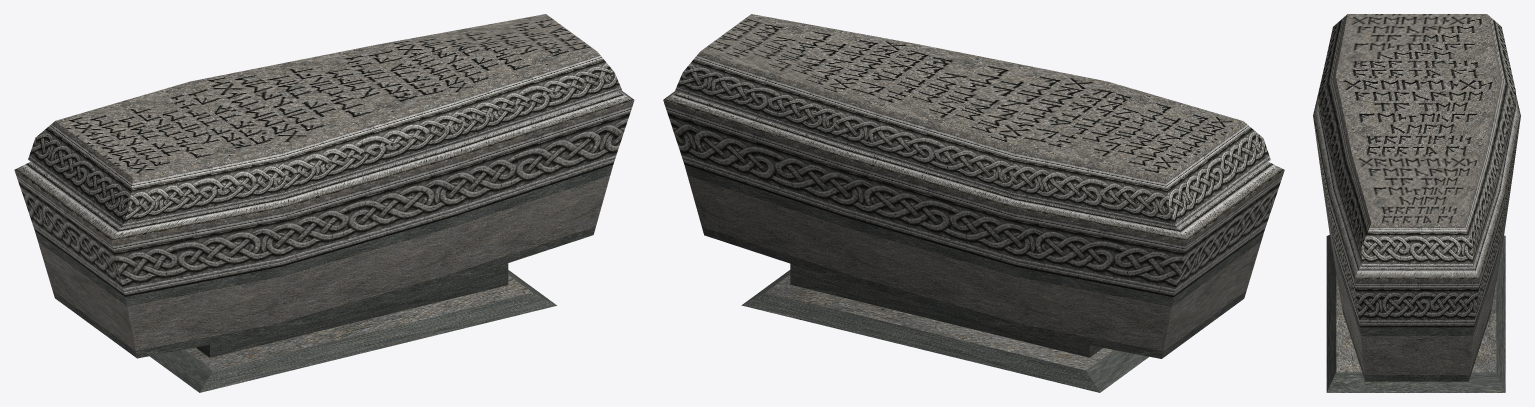
Rendered from mm9_deco_coffinraised.glb.
The picture shows the model from 3 angles, left to right: view 1: azimuth 30°, elevation 25°; view 2: azimuth 150°, elevation 25°; view 3: azimuth 270°, elevation 25°; orthographic projection. The views are drawn at different scales.
Parts seen in each view (by area): view 1: Coffinraised; view 2: Coffinraised; view 3: Coffinraised.
Boxes of the visible parts, x1,y1,x2,y2 form: Coffinraised: [14, 14, 634, 392]; Coffinraised: [663, 14, 1284, 392]; Coffinraised: [1313, 14, 1520, 392].
Size of the model in its own units: 3.97 by 1.56 by 1.48.
Materials: 2 (2 with a texture image).
